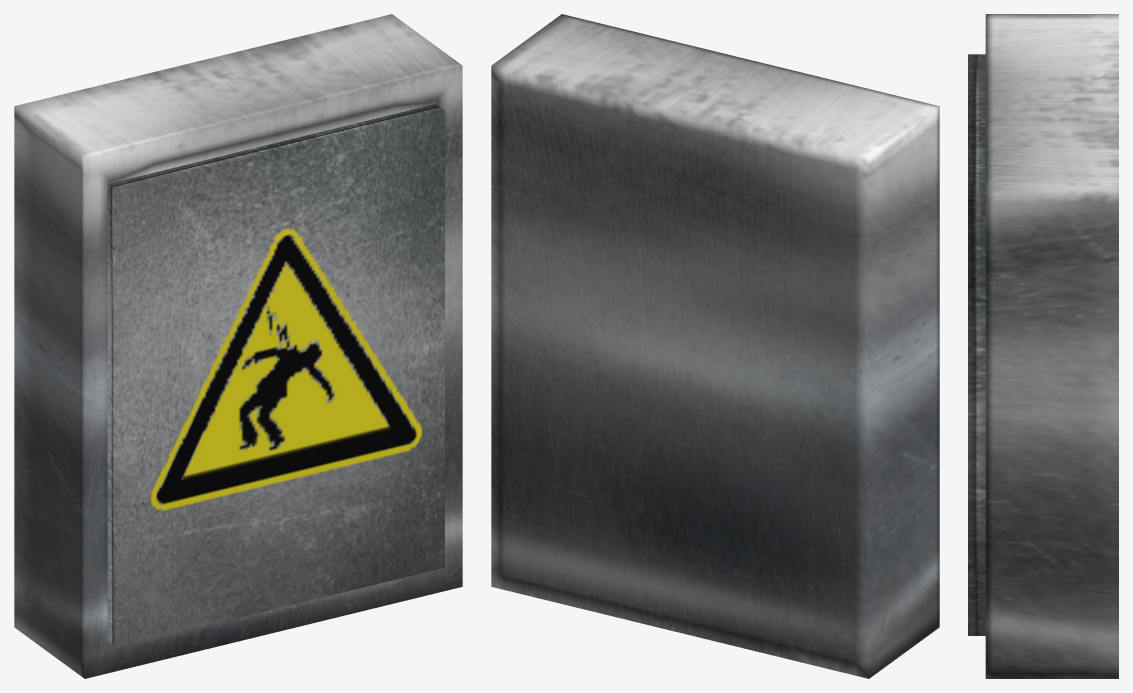
Rendered from breaker grp.fbx.
3 views of the same model, side by side, from view 1: azimuth 30°, elevation 25°; view 2: azimuth 150°, elevation 25°; view 3: azimuth 270°, elevation 25° (orthographic). The views are drawn at different scales.
Visible parts, largest first — view 1: breaker_lid, breaker_body; view 2: breaker_body; view 3: breaker_body, breaker_lid.
Boxes of the visible parts, x1,y1,x2,y2 form: breaker_lid: [107, 104, 444, 647]; breaker_body: [14, 14, 462, 678]; breaker_body: [491, 14, 939, 678]; breaker_body: [985, 14, 1118, 678]; breaker_lid: [968, 54, 985, 635].
Bounding box in the file's own units: 129 × 170 × 47.34.
2 materials, 2 textured.
